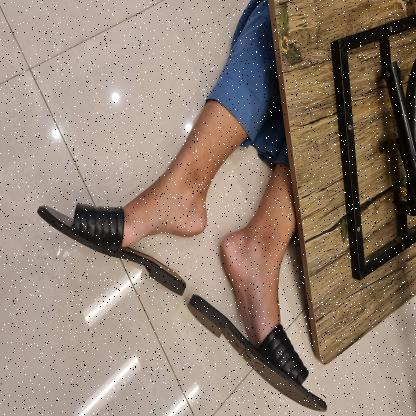leg: (185, 160, 331, 415), (37, 94, 247, 254)
